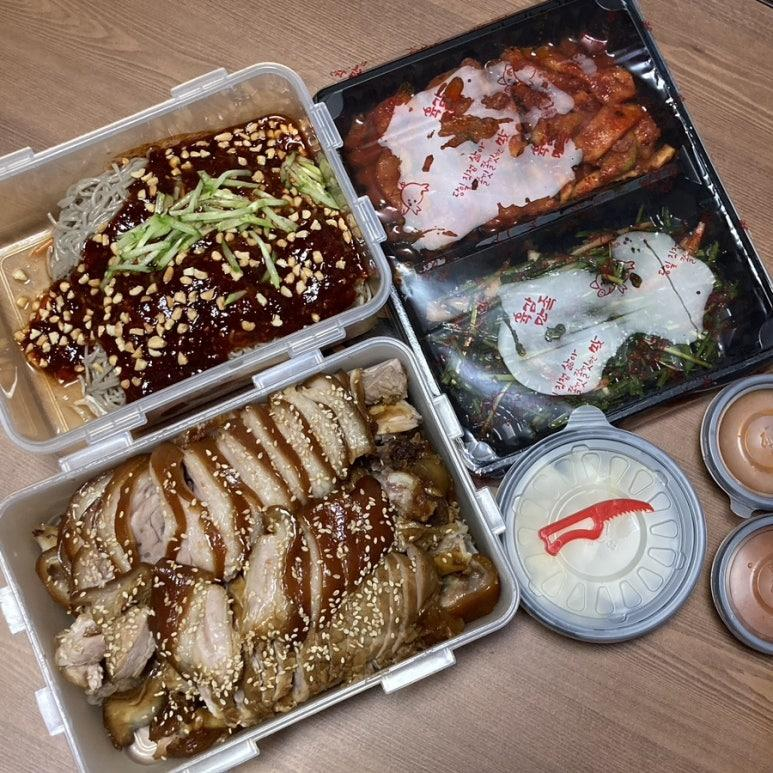Lunch Box: (0, 337, 517, 772), (317, 0, 772, 473), (0, 64, 390, 452)
cup: (498, 407, 705, 642), (700, 374, 772, 516), (711, 514, 772, 655)
